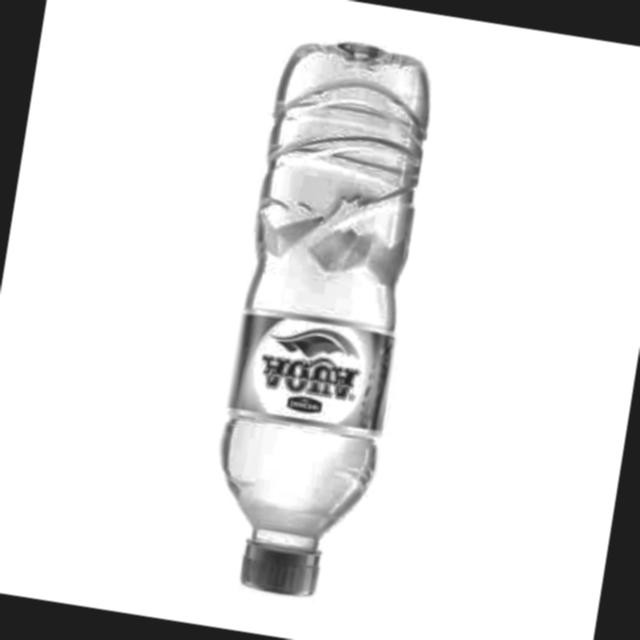waterbottle: (181, 22, 451, 631)
